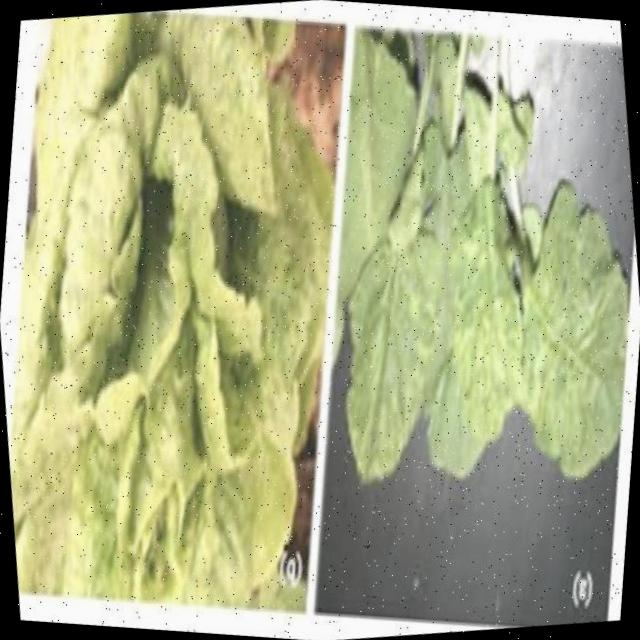Lettuce Mosaic Virus: (0, 62, 341, 552), (281, 27, 588, 466)
